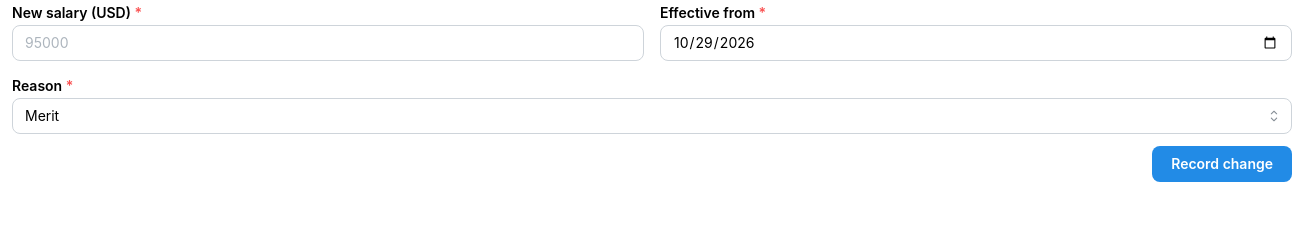
Scenario: SalaryForm › amount parsing › accepts a thousands separator, since people type them
This screenshot has width=1304, height=231.
Type "120,000" into the field labelled "New salary (USD) *" at (328, 43), box [12, 25, 644, 61]
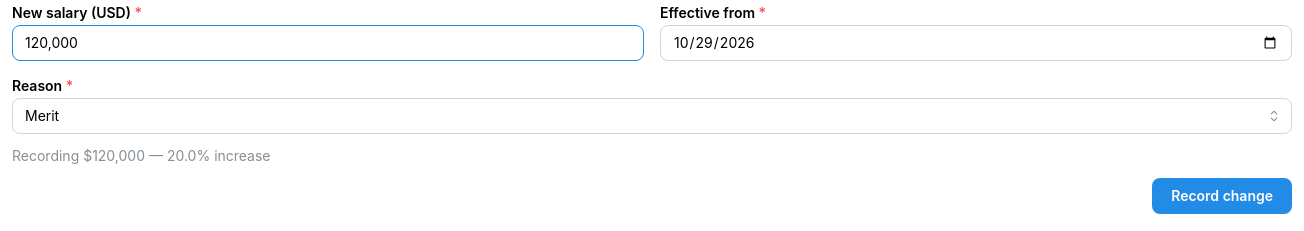
Result: the text "Recording $120,000 — 20.0% increase" is shown at [12, 147, 270, 164]
